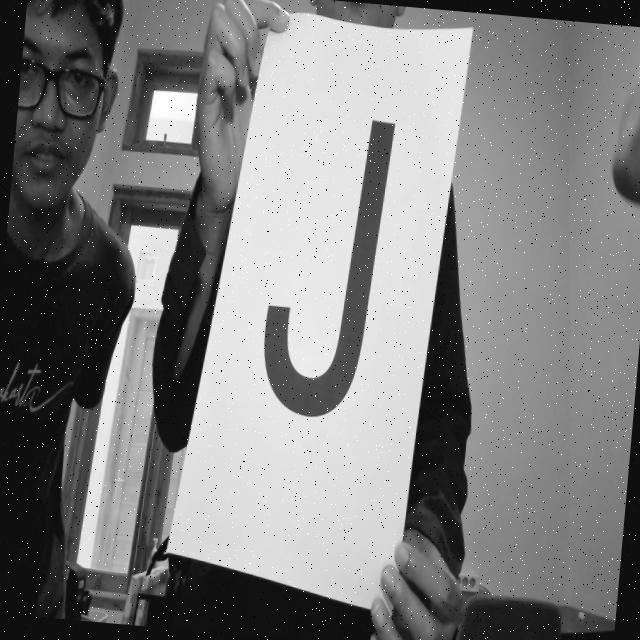j: (242, 103, 421, 478)
